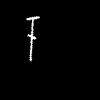double_crochet: (27, 17, 39, 60)
